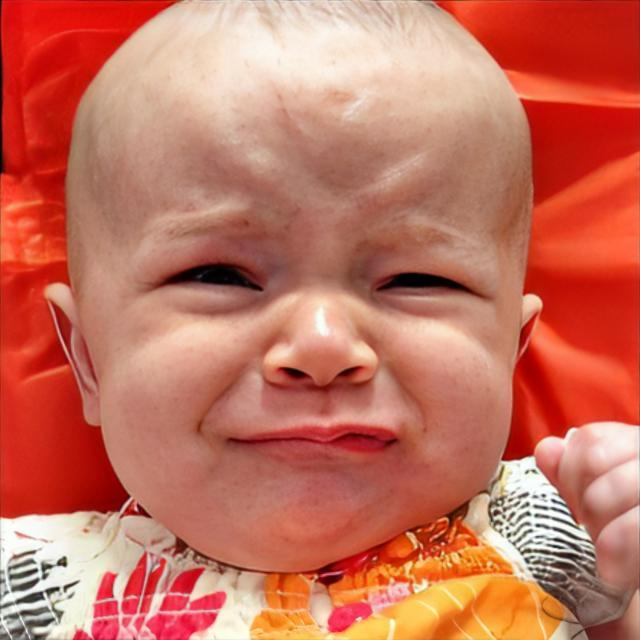sad: (61, 0, 541, 576)
